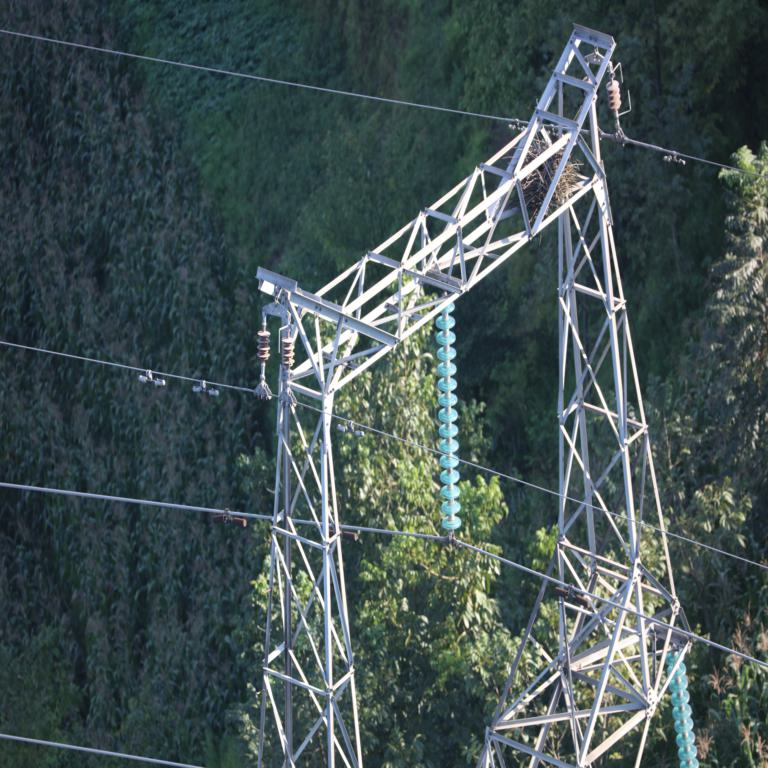nest: (518, 133, 576, 218)
